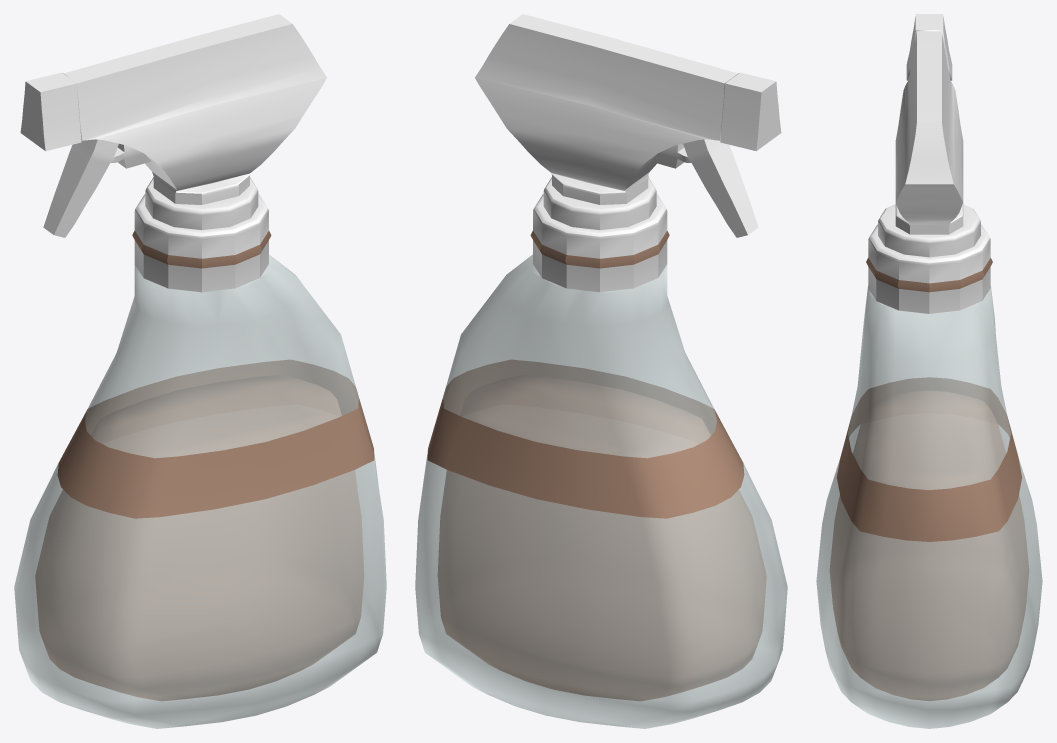
Rendered from Extrato de alho.fbx.
The picture shows the model from 3 angles, left to right: view 1: azimuth 30°, elevation 25°; view 2: azimuth 150°, elevation 25°; view 3: azimuth 270°, elevation 25°; orthographic projection. The views are drawn at different scales.
Parts seen in each view (by area): view 1: Borrifador_alho_MESH, Liquido_MESH, Borrifador_disparador_MESH, Gatilho_MESH; view 2: Borrifador_alho_MESH, Liquido_MESH, Borrifador_disparador_MESH, Gatilho_MESH; view 3: Borrifador_alho_MESH, Liquido_MESH, Borrifador_disparador_MESH.
Boxes of the visible parts, x1,y1,x2,y2 form: Borrifador_alho_MESH: (14,254,386,728); Liquido_MESH: (35,375,363,700); Borrifador_disparador_MESH: (20,14,326,292); Gatilho_MESH: (43,139,151,237); Borrifador_alho_MESH: (415,254,787,728); Liquido_MESH: (438,375,766,700); Borrifador_disparador_MESH: (475,14,781,292); Gatilho_MESH: (650,139,758,237); Borrifador_alho_MESH: (816,285,1042,728); Liquido_MESH: (830,391,1028,700); Borrifador_disparador_MESH: (866,14,992,313).
Bounding box in the file's own units: 19.36 × 36.07 × 12.56.
